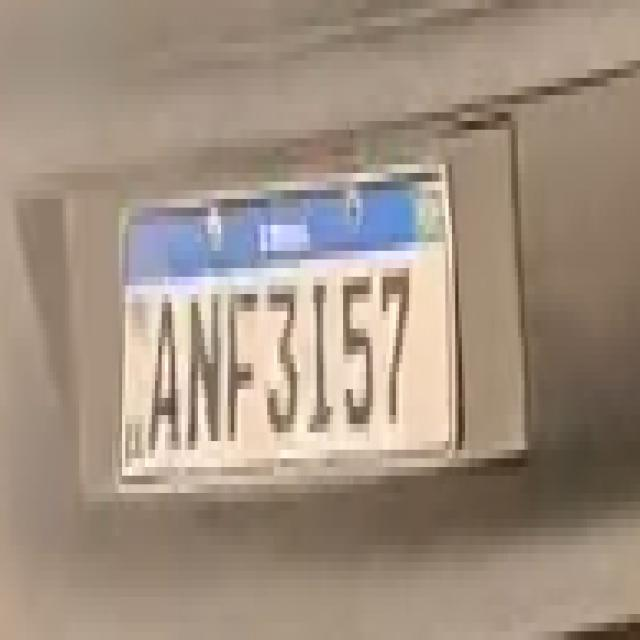Placa_mercosul_carro: (120, 160, 464, 490)
